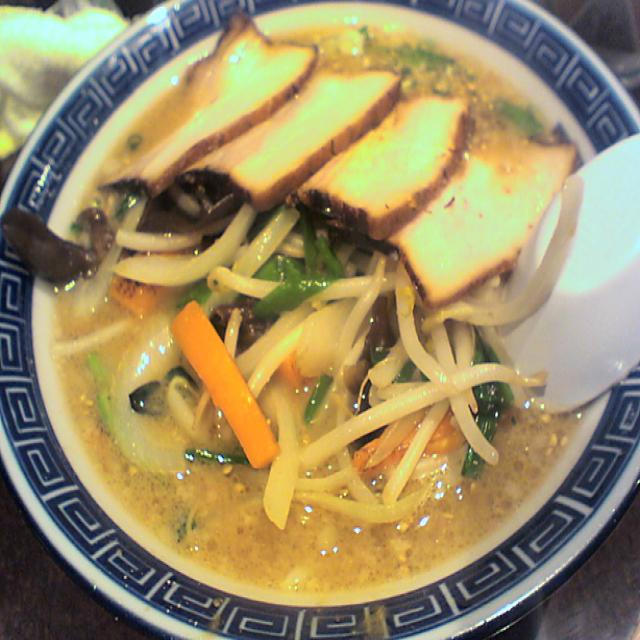面条主食: (58, 28, 592, 600)
